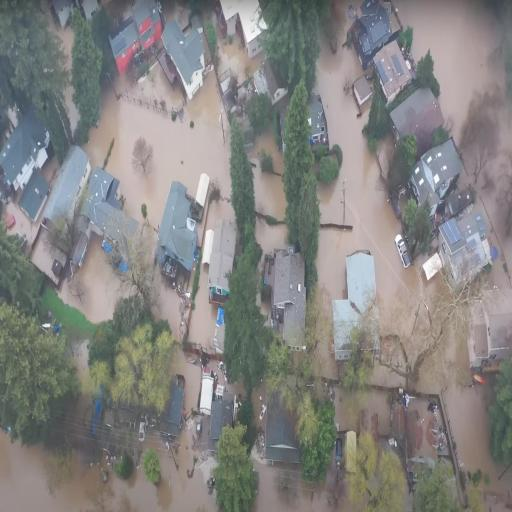flood: (315, 11, 435, 345), (82, 53, 234, 249), (0, 417, 215, 510), (398, 0, 504, 137), (446, 383, 512, 498), (56, 234, 128, 322), (255, 461, 348, 509), (414, 344, 472, 415), (480, 173, 512, 289), (247, 126, 286, 220), (335, 388, 391, 436), (188, 263, 217, 347), (217, 30, 257, 80), (154, 274, 183, 340), (173, 346, 200, 414), (255, 217, 288, 252), (56, 23, 73, 76), (64, 81, 79, 133), (49, 21, 56, 29)
house: (38, 143, 95, 247), (86, 162, 141, 268), (331, 250, 380, 364), (439, 200, 494, 291), (389, 82, 445, 168), (409, 138, 467, 221), (0, 109, 52, 195), (159, 179, 201, 281), (267, 249, 308, 353), (159, 22, 208, 103), (467, 294, 512, 380), (107, 2, 161, 72), (347, 1, 397, 70), (220, 0, 270, 62), (262, 389, 300, 465), (371, 39, 413, 104), (209, 215, 233, 298), (18, 167, 50, 224), (308, 91, 328, 145), (51, 0, 75, 34)
